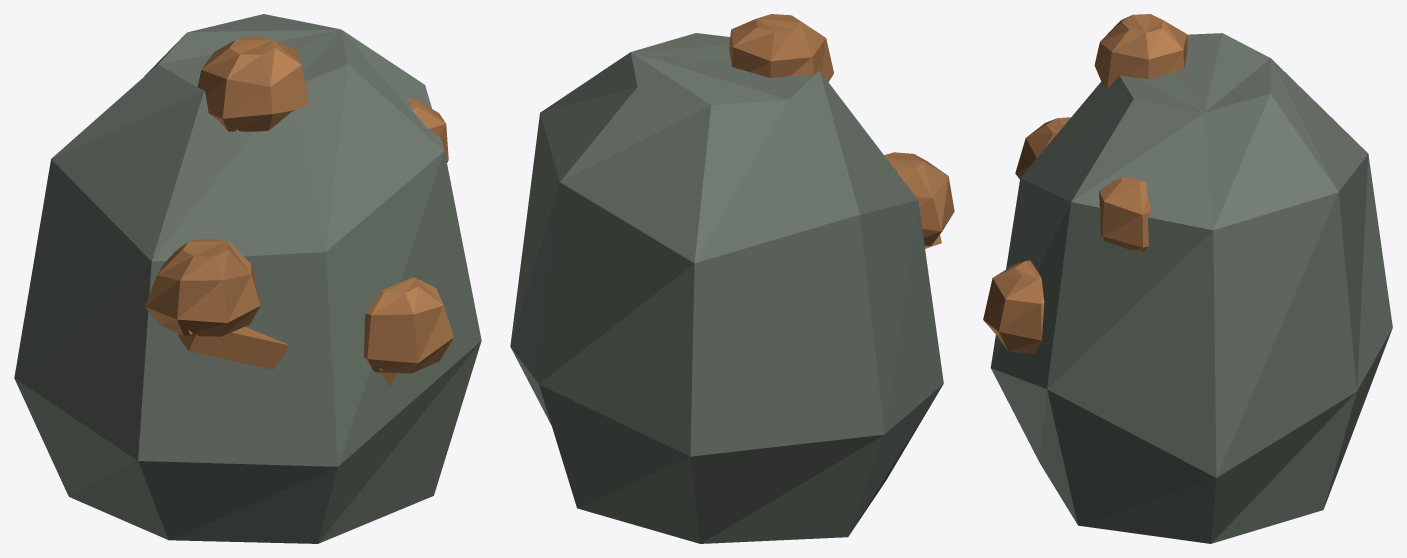
Rendered from ore_copper.glb.
3 renders of one model, left to right at view 1: azimuth 30°, elevation 25°; view 2: azimuth 150°, elevation 25°; view 3: azimuth 270°, elevation 25°, orthographic. The views are drawn at different scales.
Visible parts, largest first — view 1: geometry; view 2: geometry; view 3: geometry.
Boxes of the visible parts, <box> form: geometry: <box>14,14,481,543</box>; geometry: <box>510,14,954,543</box>; geometry: <box>983,14,1392,543</box>.
Bounding box in the file's own units: 0.7131 × 0.76 × 0.6489.
